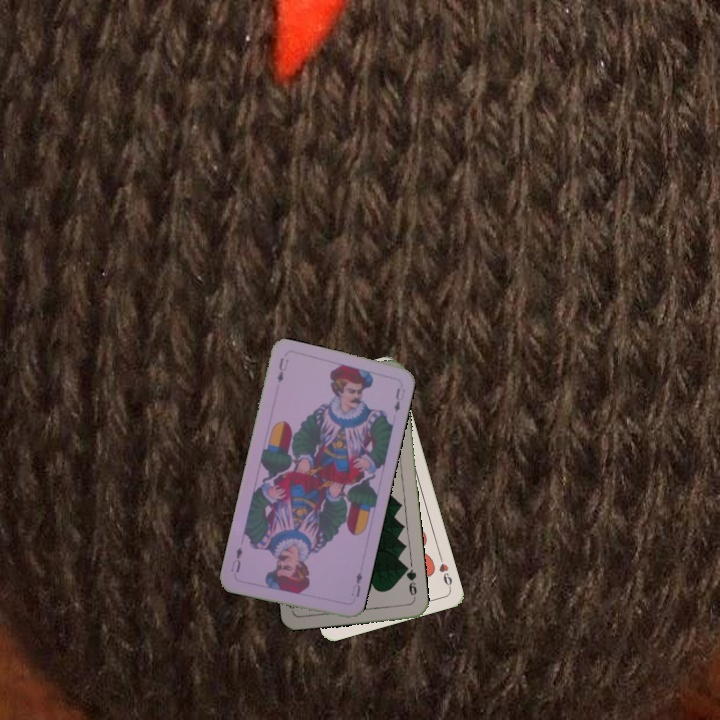EU: (347, 568, 365, 600), (273, 353, 291, 385)
G9: (401, 562, 419, 602)
H9: (435, 552, 455, 591)
